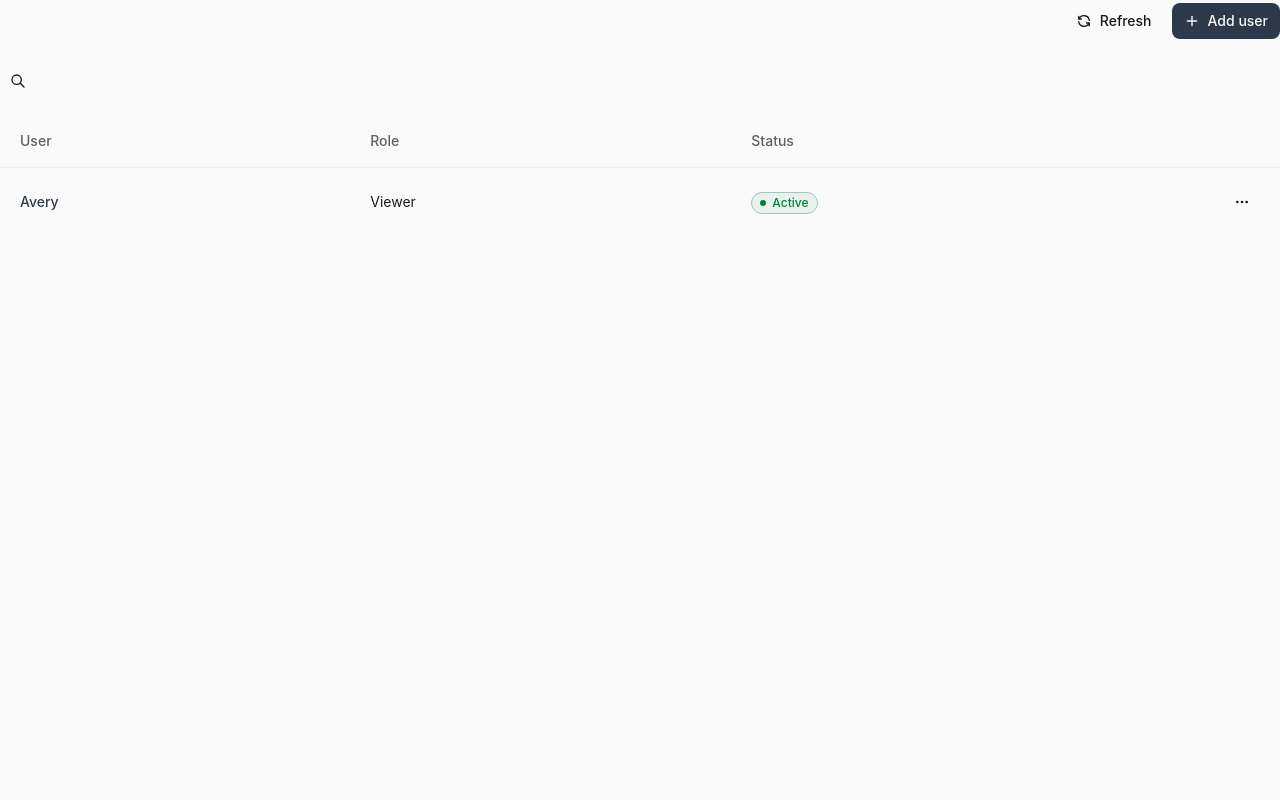
Test: operator administration workflow › shows operator activity and pages with the server cursor
What coordinates should you click on to do the following:
click the button "Avery"
I would click on:
 (39, 202)
Its box is top-left (20, 192), bottom-right (59, 212).
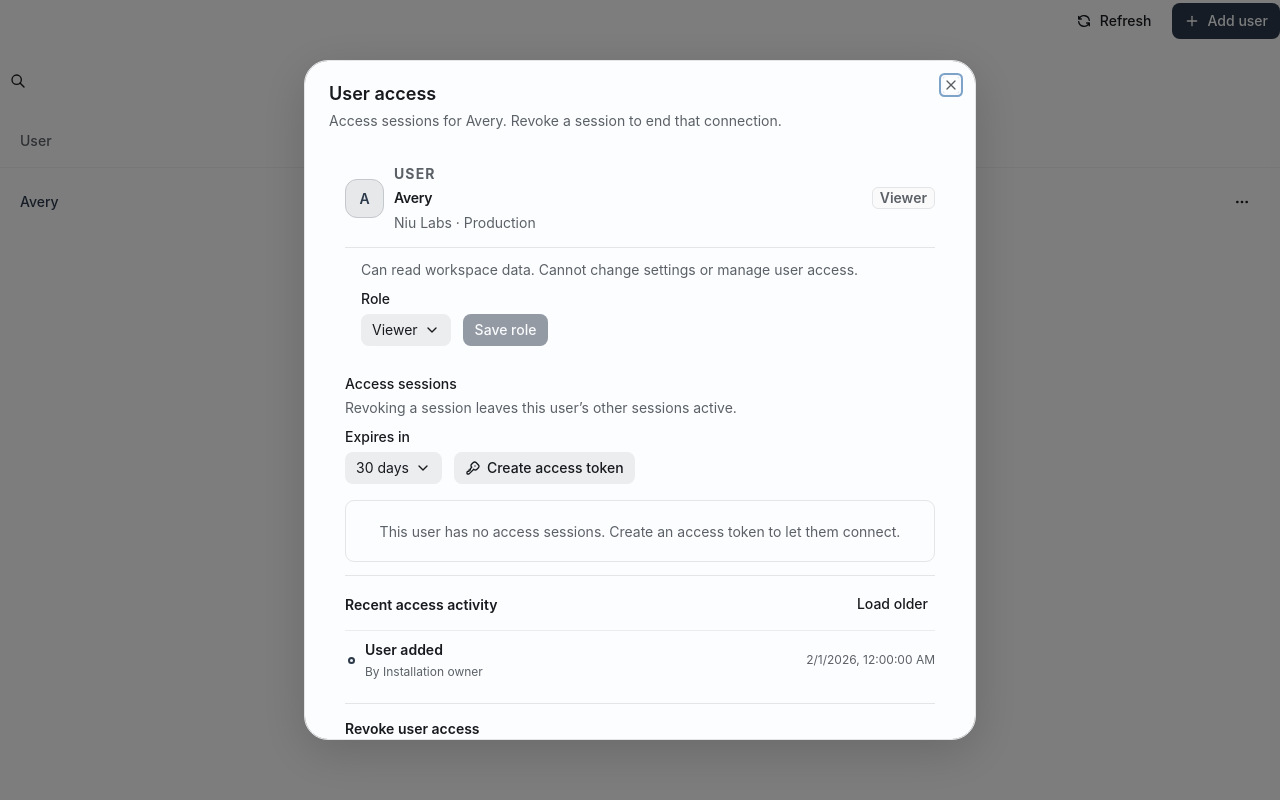
Check: the text "User added" is shown, box top-left (365, 641), bottom-right (443, 658)
What coordinates should you click on to do the following:
click the button "Load older"
I would click on:
 (892, 604)
Its box is top-left (850, 588), bottom-right (935, 620).
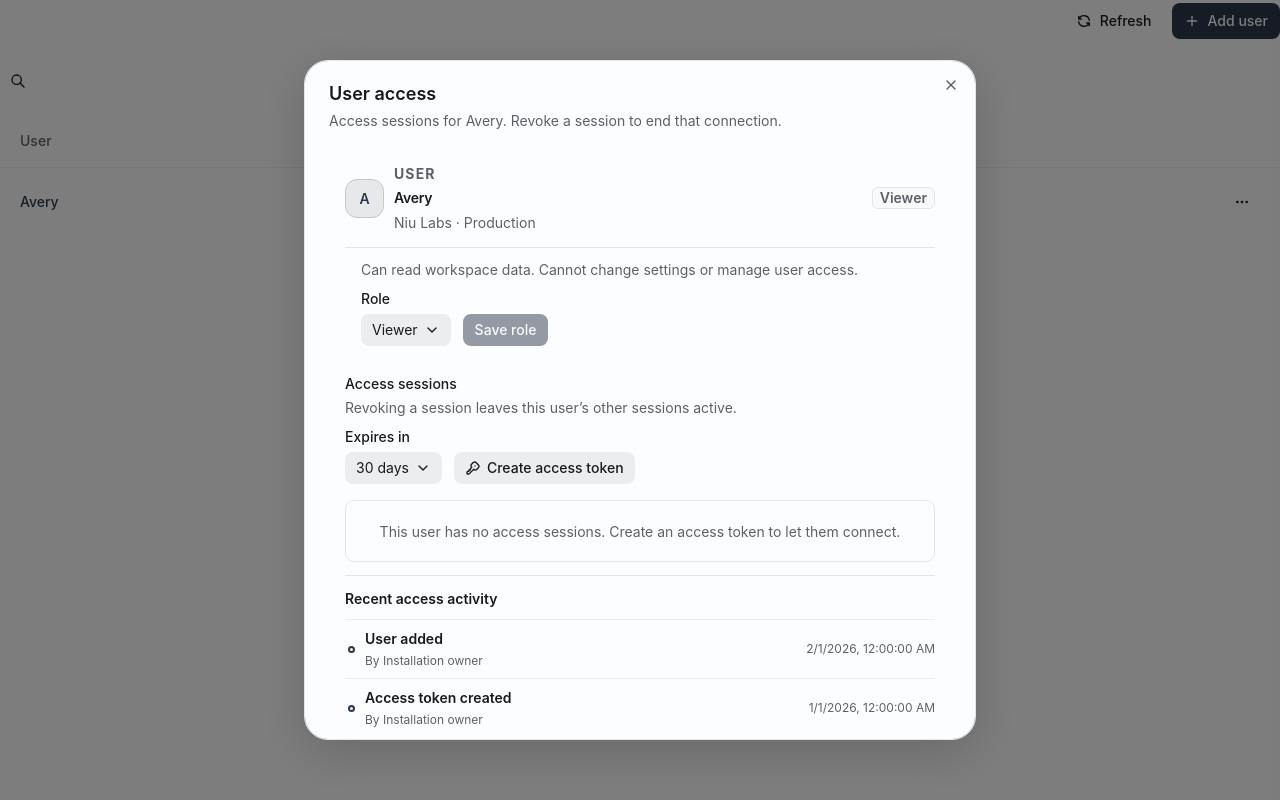
Check: the text "Access token created" is shown, box top-left (365, 689), bottom-right (512, 706)
